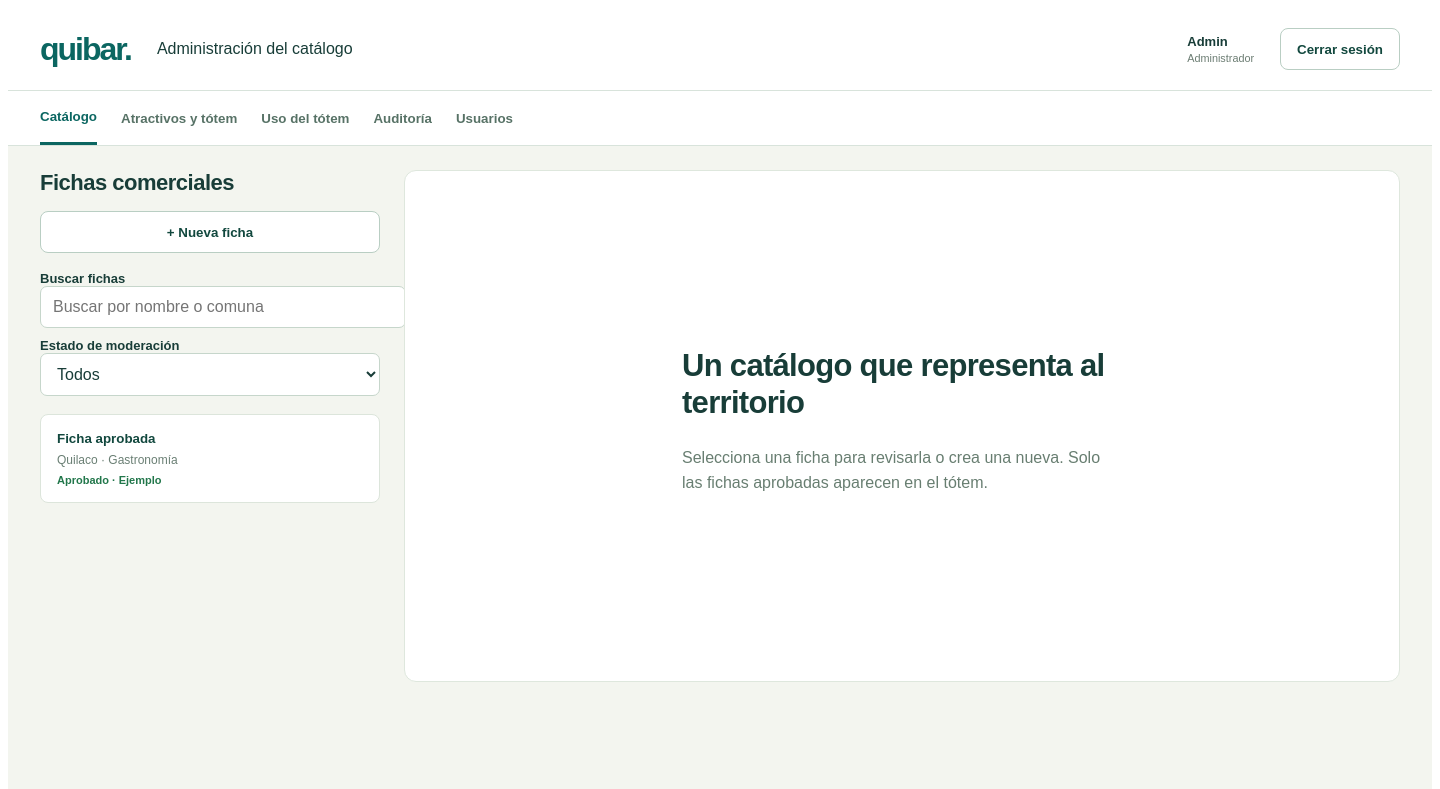
Test case: los errores de validación de la API conservan el motivo del rechazo
Click the button "Ficha aprobada Quilaco · Gastronomía Aprobado · Ejemplo": x=106, y=438 [40,414,380,503]
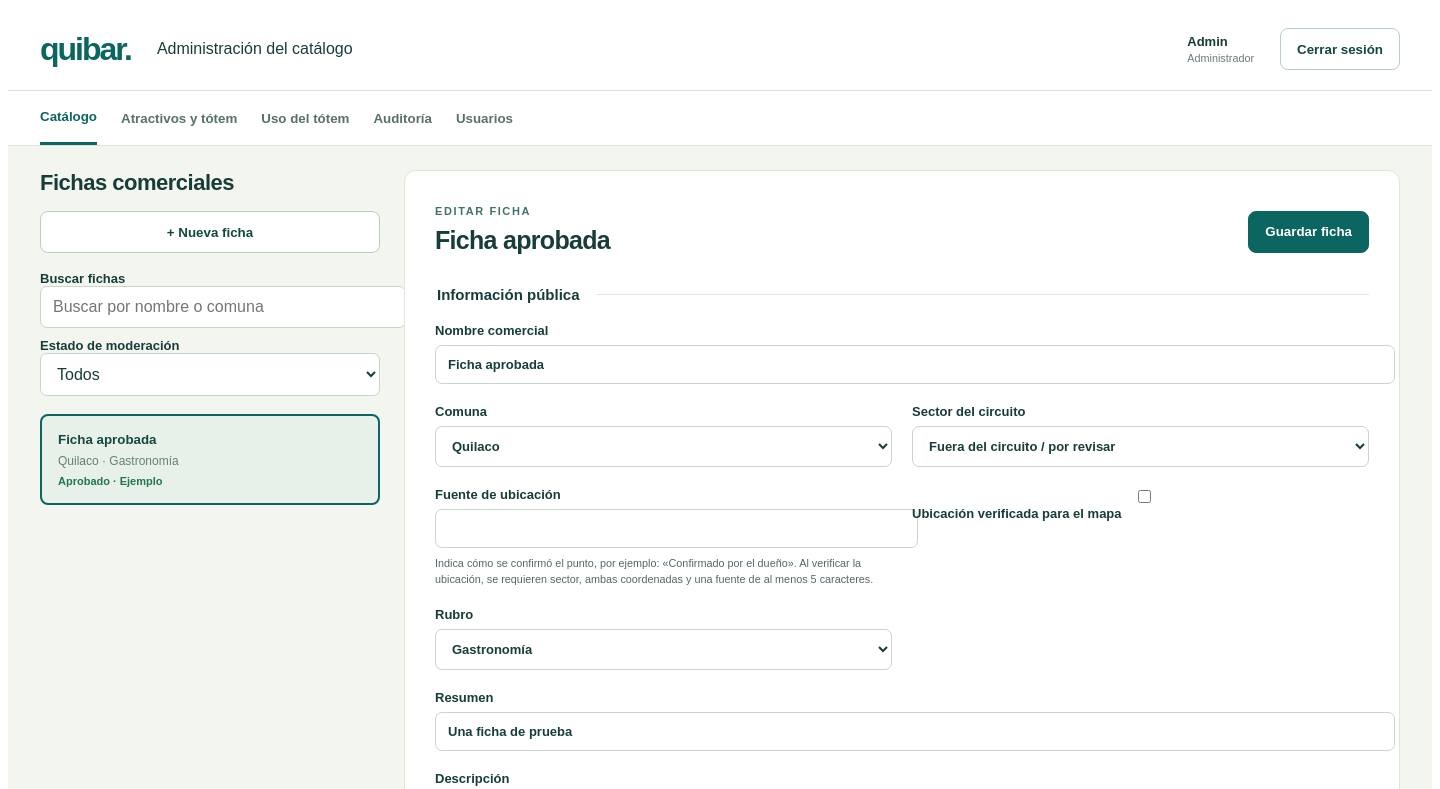
Click the button "Guardar ficha": x=1309, y=232 [1248,210,1369,252]
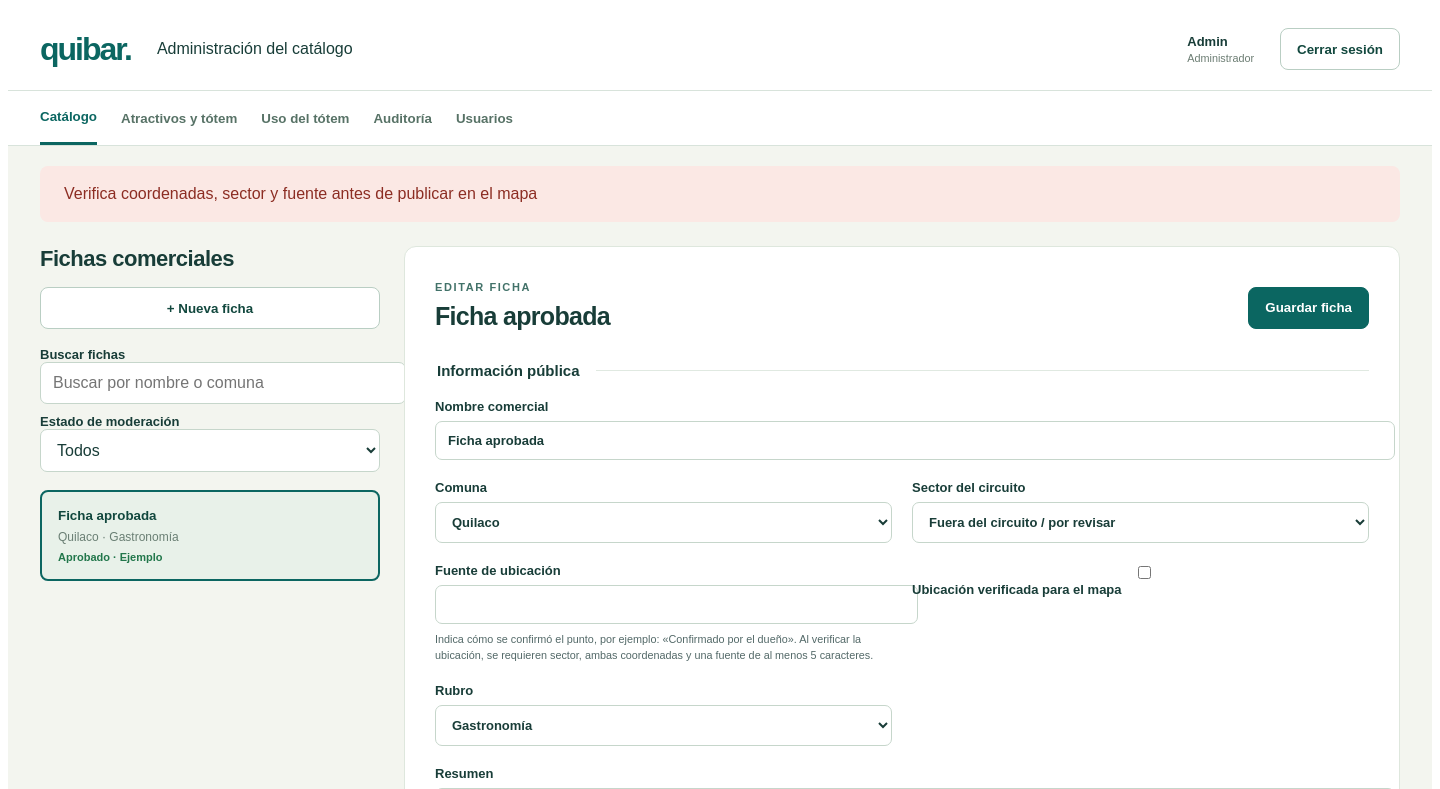
Result: the message reads "Verifica coordenadas, sector y fuente antes de publicar en el mapa" at [64,185,537,202]
